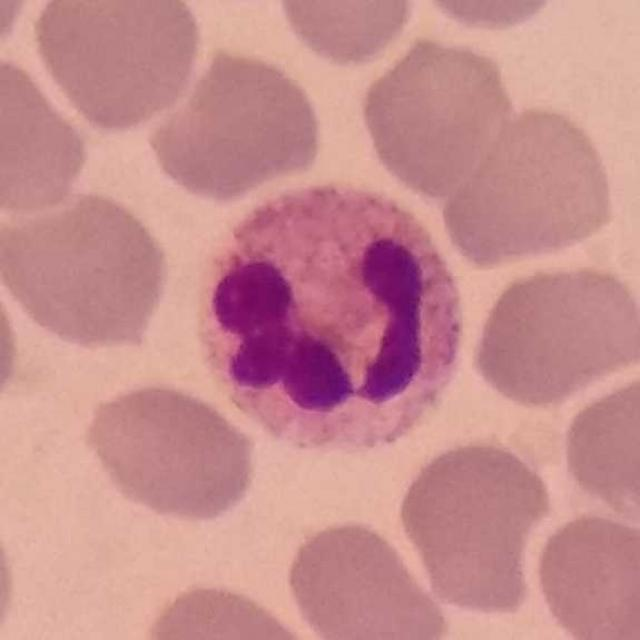Neutrophil: (199, 156, 479, 450)
RBC: (437, 100, 622, 272), (393, 435, 558, 618), (144, 42, 328, 203), (0, 184, 176, 352), (465, 255, 639, 411), (80, 378, 262, 526), (354, 30, 516, 196), (28, 0, 207, 135), (282, 515, 455, 640), (0, 49, 95, 218), (530, 506, 640, 640), (556, 364, 640, 528), (137, 576, 328, 640), (271, 0, 422, 69), (407, 0, 571, 36), (0, 246, 24, 422), (0, 501, 22, 640), (0, 0, 42, 63)
